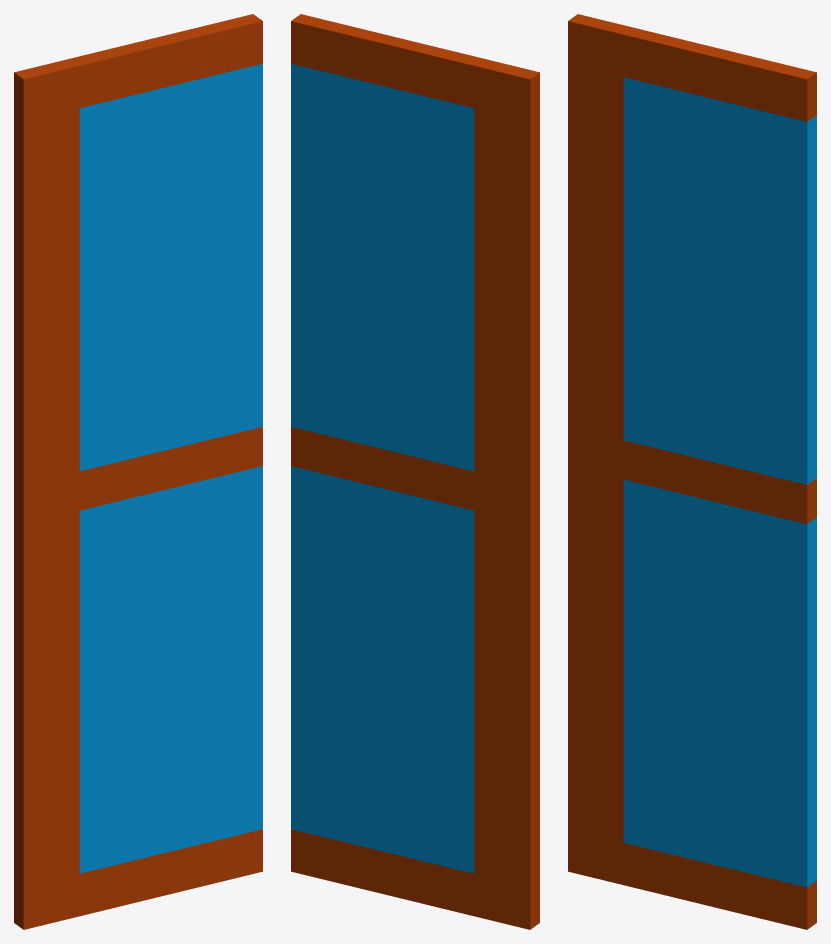
Rendered from GreenhouseWall.fbx.
3 renders of one model, left to right at view 1: azimuth 30°, elevation 25°; view 2: azimuth 150°, elevation 25°; view 3: azimuth 330°, elevation 25°, orthographic.
Visible parts, largest first — view 1: GreenhouseWall; view 2: GreenhouseWall; view 3: GreenhouseWall.
Part boxes in pixels (left/top/right/bottom): GreenhouseWall: left=14, top=14, right=262, bottom=929; GreenhouseWall: left=291, top=14, right=539, bottom=929; GreenhouseWall: left=568, top=14, right=816, bottom=929.
Size of the model in its own units: 1116 by 3794 by 78.74.
